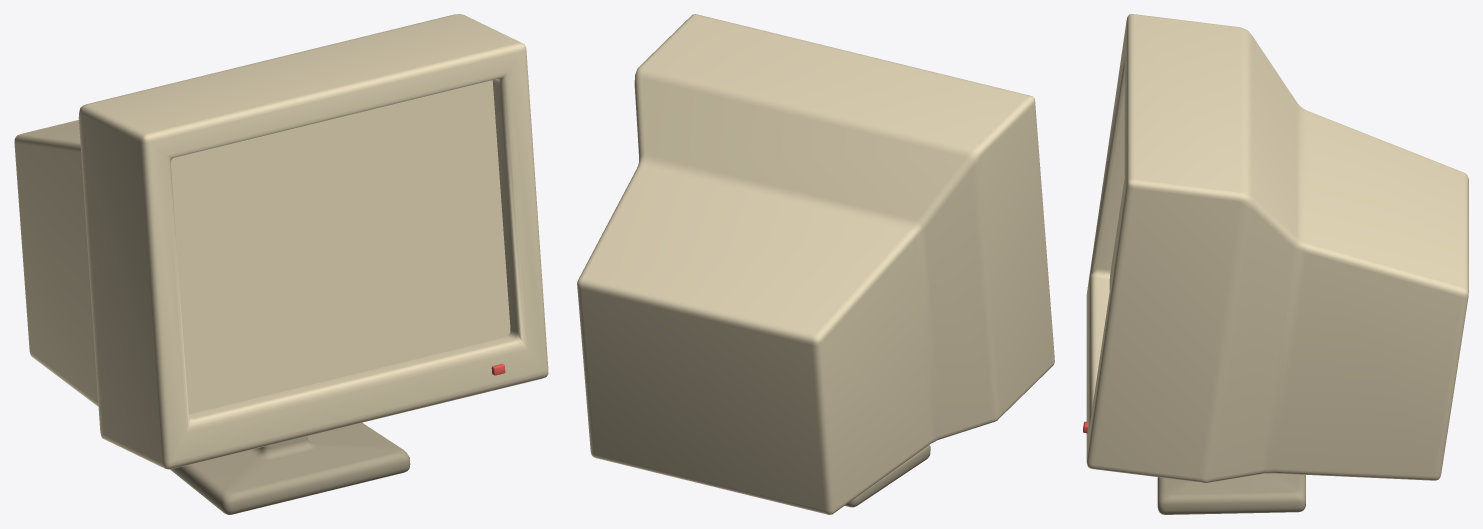
Rendered from Monitor.glb.
The picture shows the model from 3 angles, left to right: view 1: azimuth 30°, elevation 25°; view 2: azimuth 150°, elevation 25°; view 3: azimuth 270°, elevation 25°; orthographic projection. The views are drawn at different scales.
Parts seen in each view (by area): view 1: Monitor, MonitorStand; view 2: Monitor, MonitorStand; view 3: Monitor, MonitorStand.
Part boxes in pixels (<box>): Monitor: <box>14,14,548,469</box>; MonitorStand: <box>170,423,410,514</box>; Monitor: <box>577,14,1054,514</box>; MonitorStand: <box>845,445,930,507</box>; Monitor: <box>1086,14,1468,482</box>; MonitorStand: <box>1157,473,1305,514</box>.
Size of the model in its own units: 0.5499 by 0.5706 by 0.5266.
